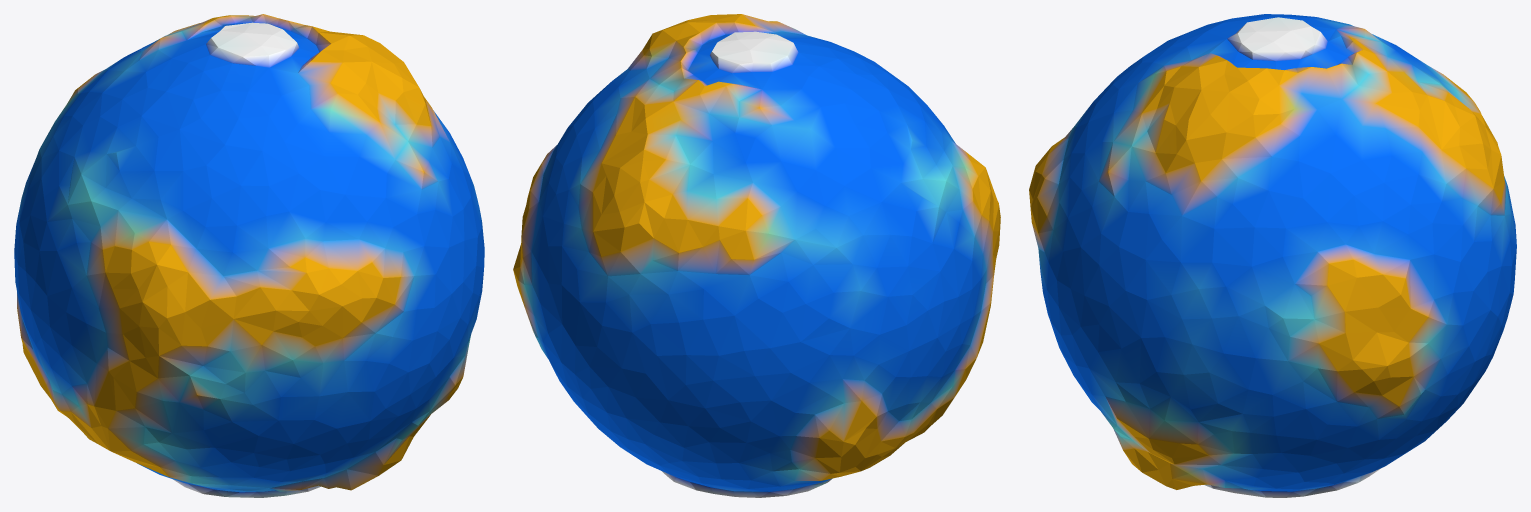
Rendered from planet_8.fbx.
3 renders of one model, left to right at view 1: azimuth 30°, elevation 25°; view 2: azimuth 150°, elevation 25°; view 3: azimuth 270°, elevation 25°, orthographic. The views are drawn at different scales.
Visible parts, largest first — view 1: file1; view 2: file1; view 3: file1.
Part boxes in pixels (bbox=[...]): file1: bbox=[14, 14, 484, 497]; file1: bbox=[513, 14, 1000, 497]; file1: bbox=[1029, 14, 1516, 497].
Size of the model in its own units: 2.01 by 2.06 by 2.05.
